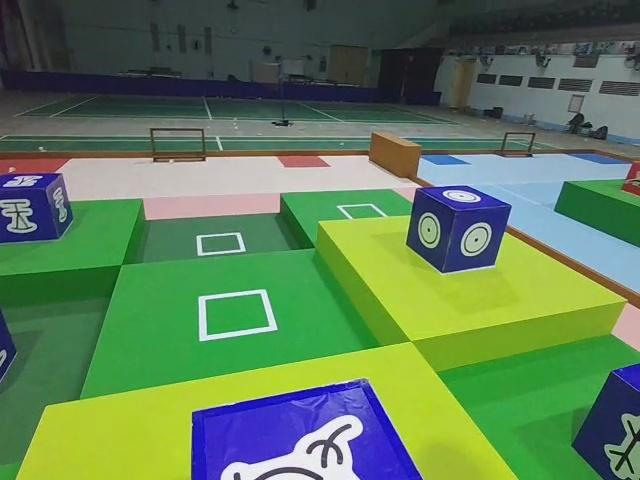R2 Real Blue: (407, 186, 514, 275), (573, 347, 640, 480), (0, 173, 72, 247), (0, 295, 18, 401)
